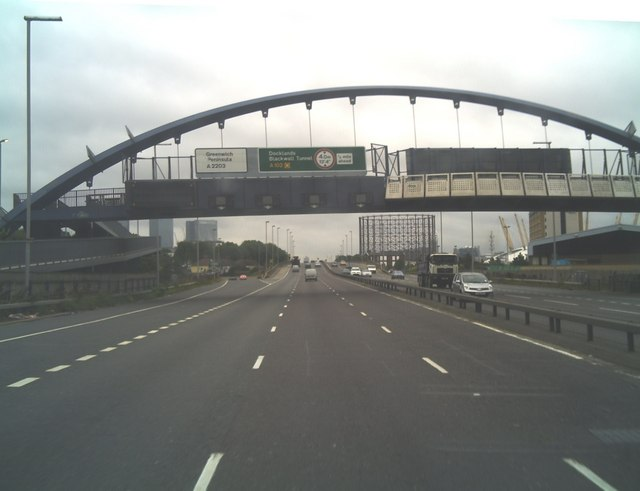bridge: (1, 84, 640, 220)
